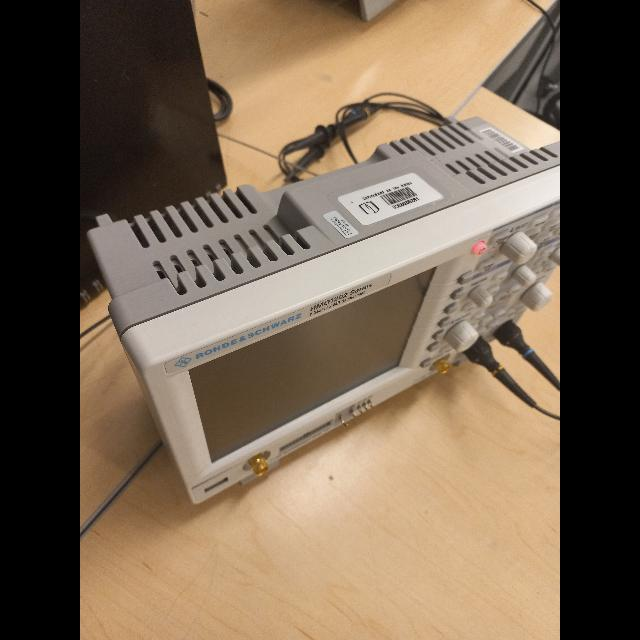Digital-Oscilloscope: (88, 116, 560, 504)
